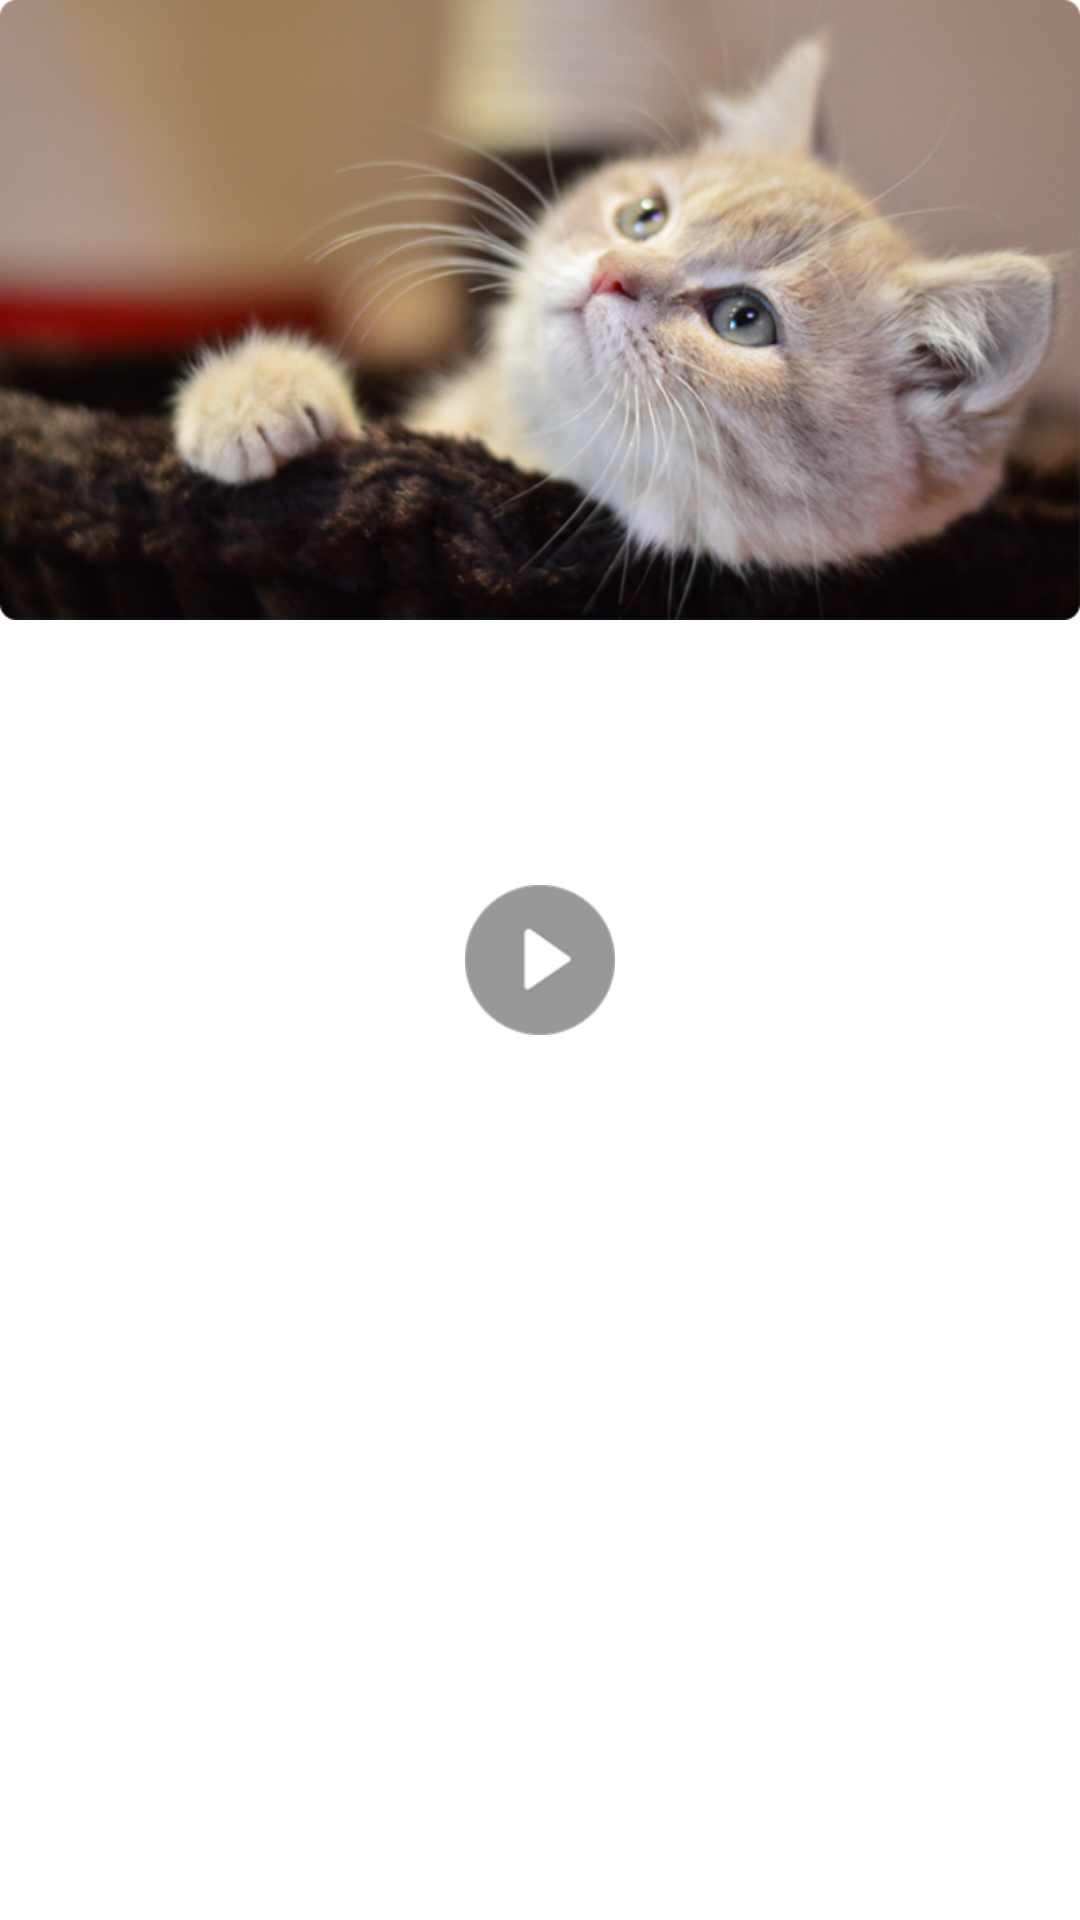

Screen size 1080×1920. Icon name, then its box in pixels as (x1, y1, x2, y2):
video play: (465, 885, 615, 1035)
